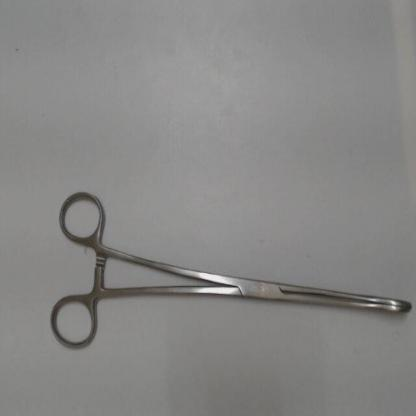Sponge Forceps: (46, 184, 414, 357)
